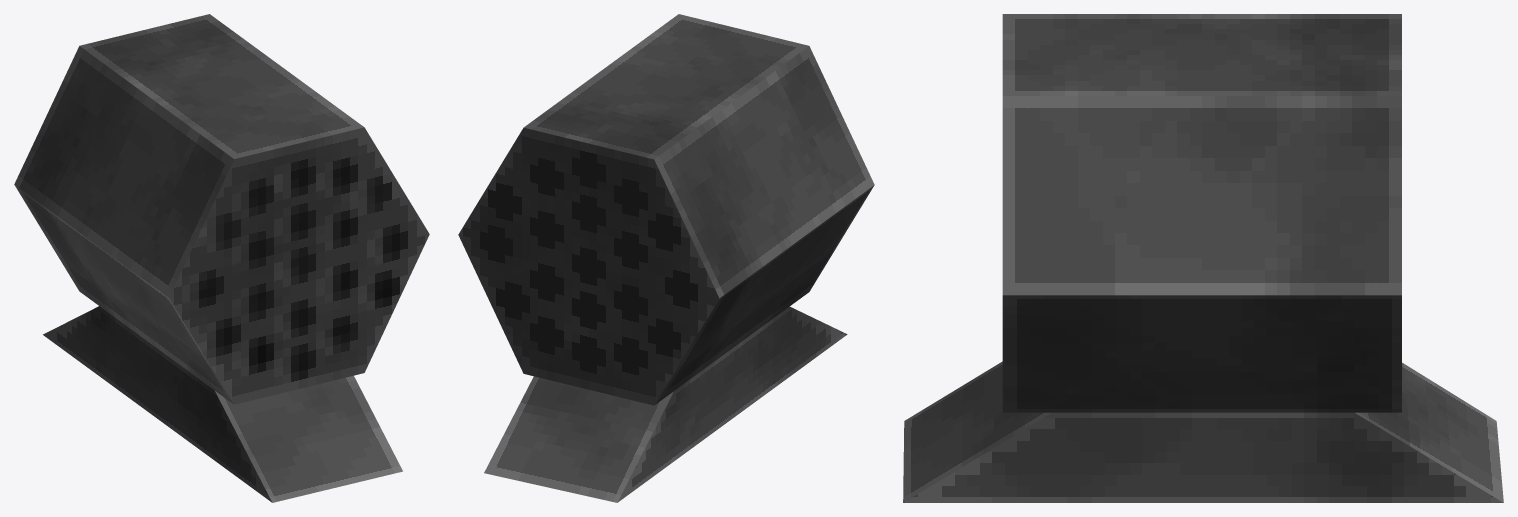
Rendered from cluster_mount.gltf.
The picture shows the model from 3 angles, left to right: view 1: azimuth 30°, elevation 25°; view 2: azimuth 150°, elevation 25°; view 3: azimuth 270°, elevation 25°; orthographic projection. The views are drawn at different scales.
Parts seen in each view (by area): view 1: cylinder; view 2: cylinder; view 3: cylinder.
Boxes of the visible parts, x1=… form: cylinder: x1=14, y1=14, x2=429, y2=502; cylinder: x1=458, y1=14, x2=874, y2=502; cylinder: x1=903, y1=14, x2=1503, y2=502.
Bounding box in the file's own units: 0.4858 × 0.5625 × 0.7524.
Materials: 1 (1 with a texture image).
